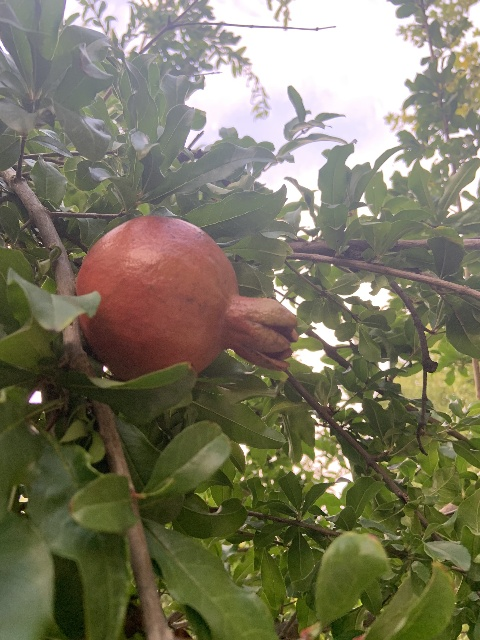ripe: (74, 215, 296, 379)
